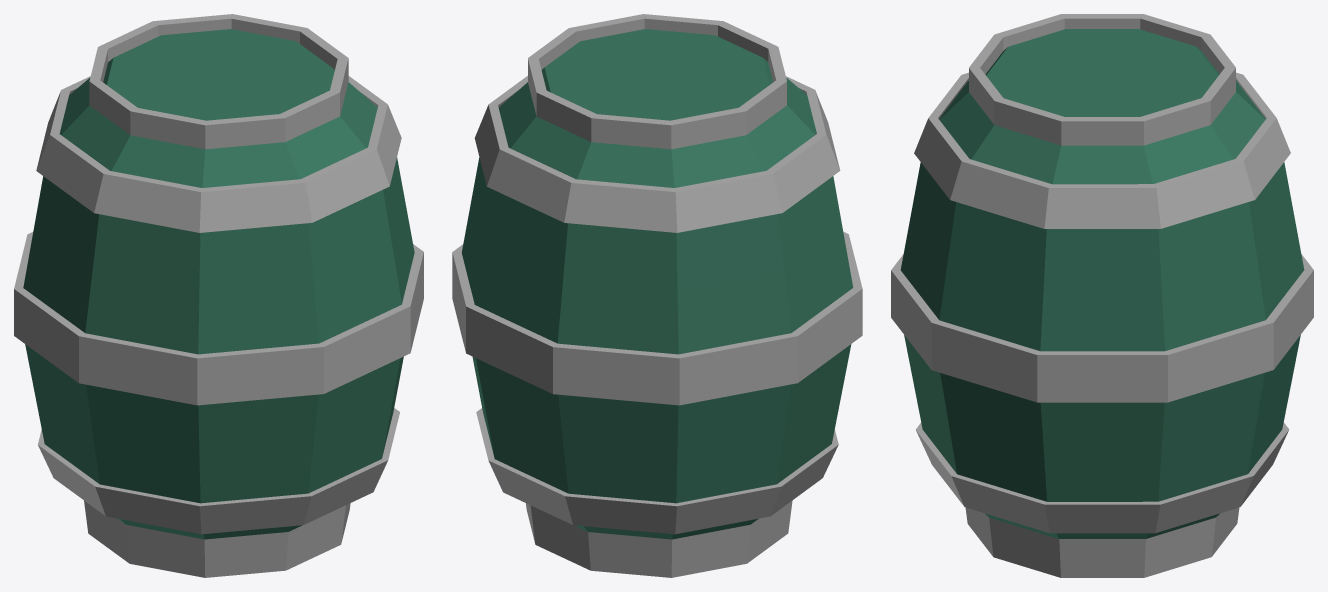
Rendered from barrel_b005.glb.
The picture shows the model from 3 angles, left to right: view 1: azimuth 30°, elevation 25°; view 2: azimuth 150°, elevation 25°; view 3: azimuth 270°, elevation 25°; orthographic projection.
Parts seen in each view (by area): view 1: barrel_b005; view 2: barrel_b005; view 3: barrel_b005.
Part boxes in pixels (x1,y1,x2,y2): barrel_b005: (14, 14, 423, 577); barrel_b005: (452, 14, 862, 577); barrel_b005: (891, 14, 1313, 577).
Bounding box in the file's own units: 0.2986 × 0.3735 × 0.3138.
1 material, 1 textured.
